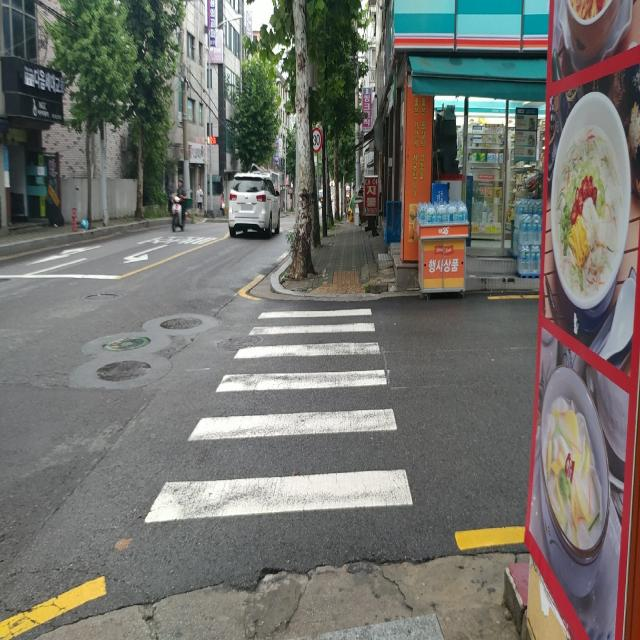횡단보도: (142, 305, 416, 518)
